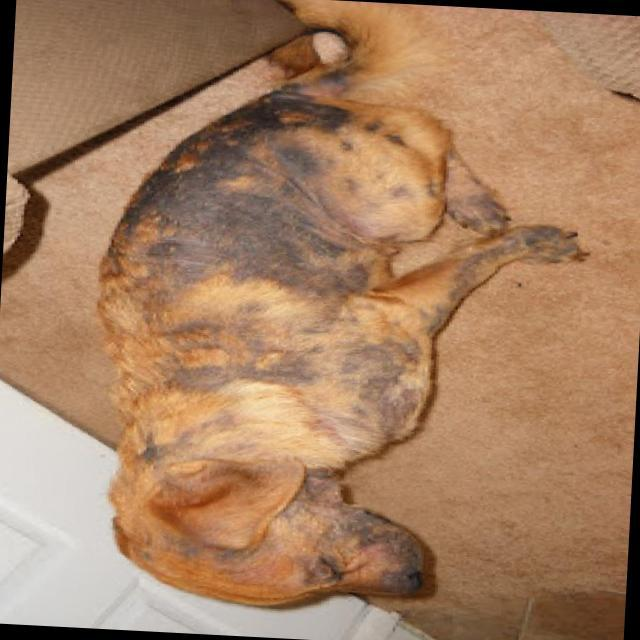allergic dermatitis: (133, 172, 365, 308), (178, 96, 352, 182)
